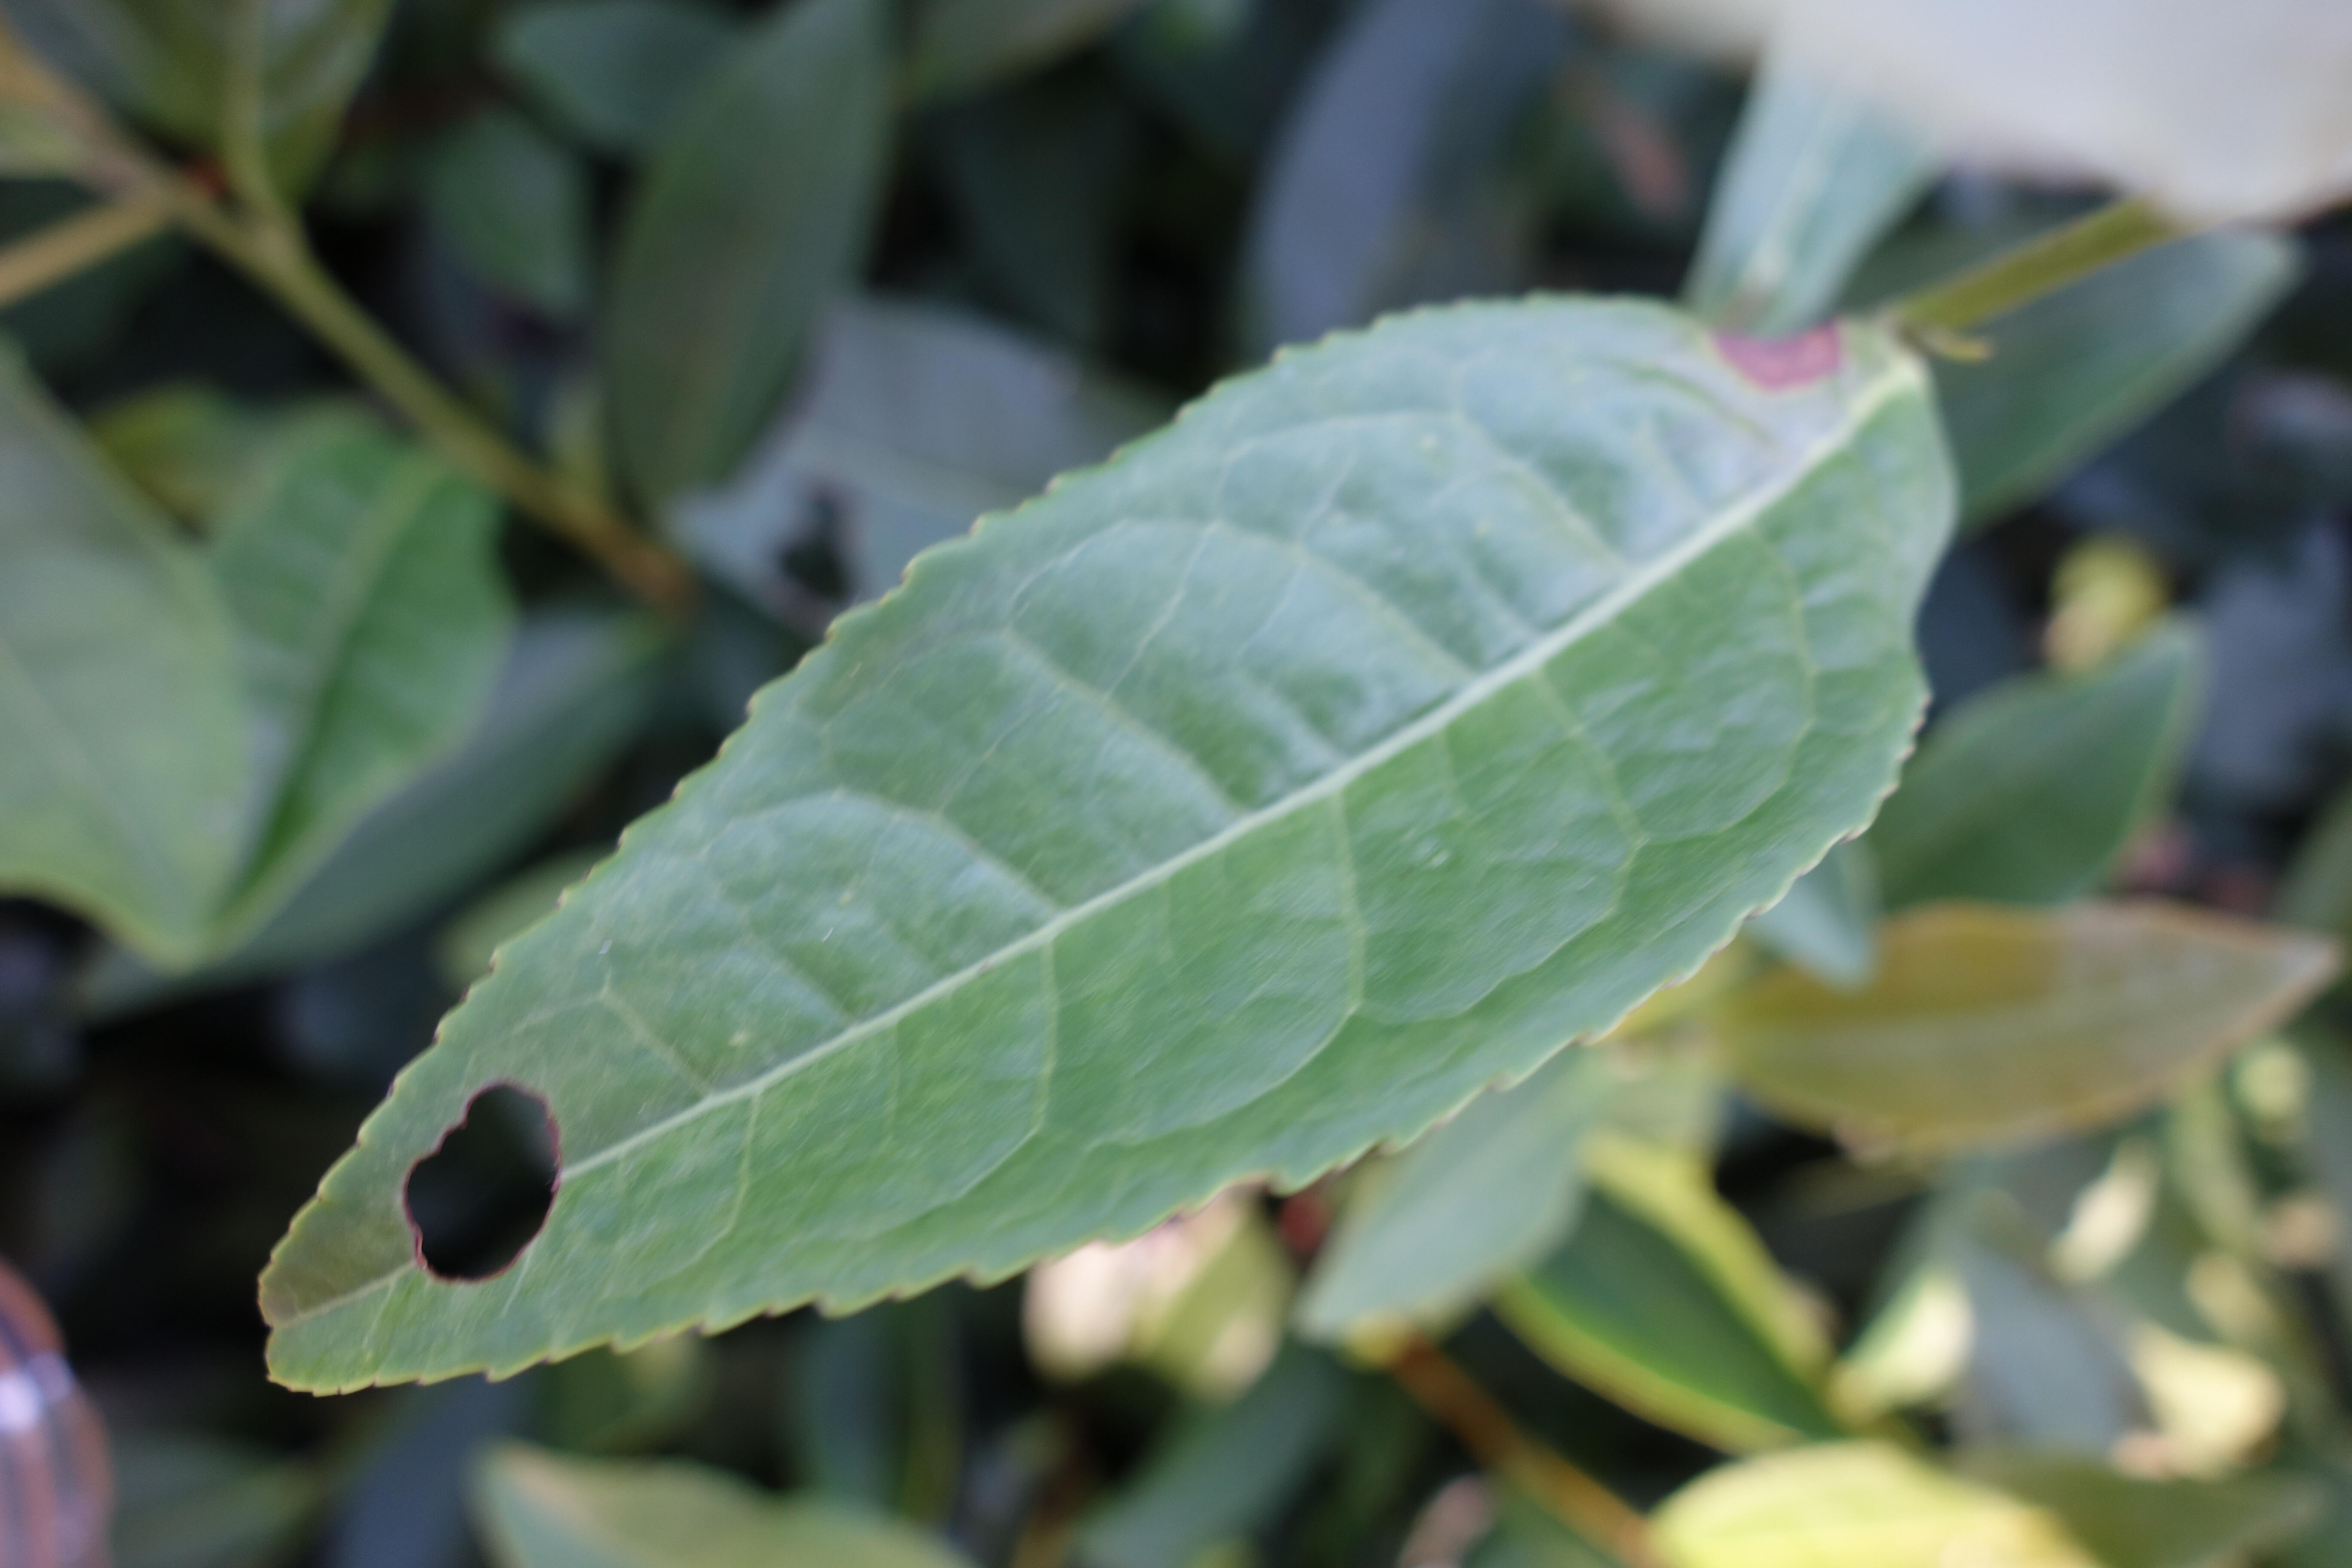chihuo_low: (257, 287, 1962, 1405)
